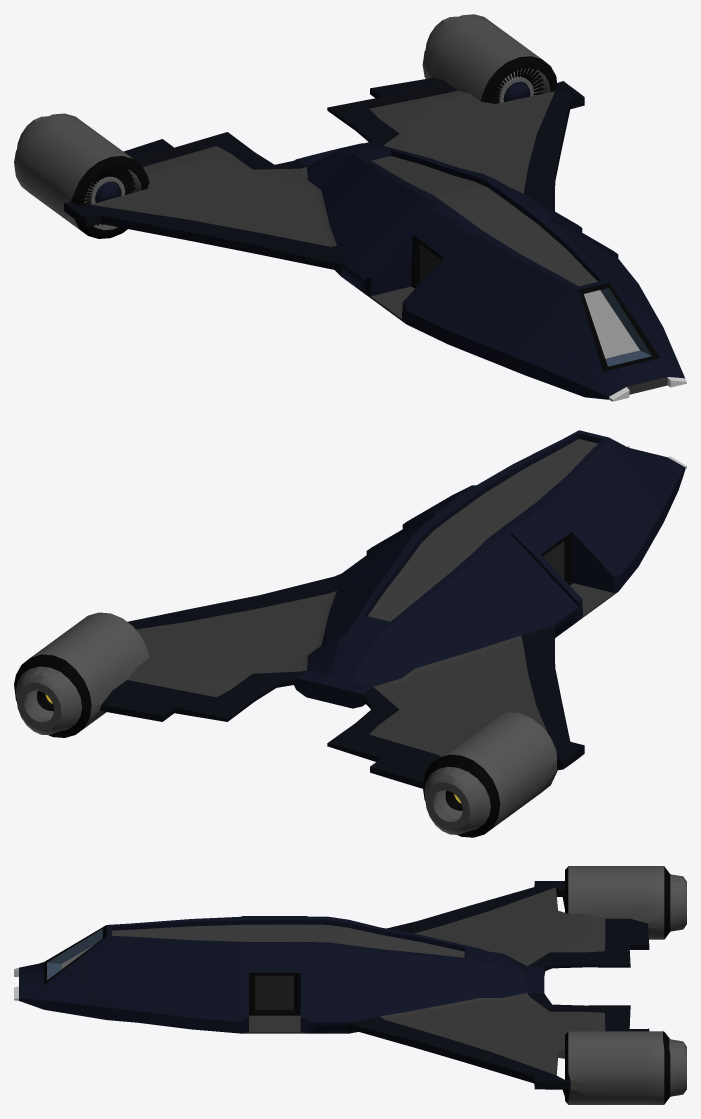
Rendered from spaceship.fbx.
3 views of the same model, one above another, from view 1: azimuth 30°, elevation 25°; view 2: azimuth 150°, elevation 25°; view 3: azimuth 270°, elevation 25° (orthographic). The views are drawn at different scales.
Parts seen in each view (by area): view 1: group2_pCylinder1; view 2: group2_pCylinder1; view 3: group2_pCylinder1.
Part boxes in pixels (x1,y1,x2,y2): group2_pCylinder1: (14,14,686,401); group2_pCylinder1: (14,430,686,837); group2_pCylinder1: (14,866,686,1104).
Bounding box in the file's own units: 109 × 22.25 × 154.
